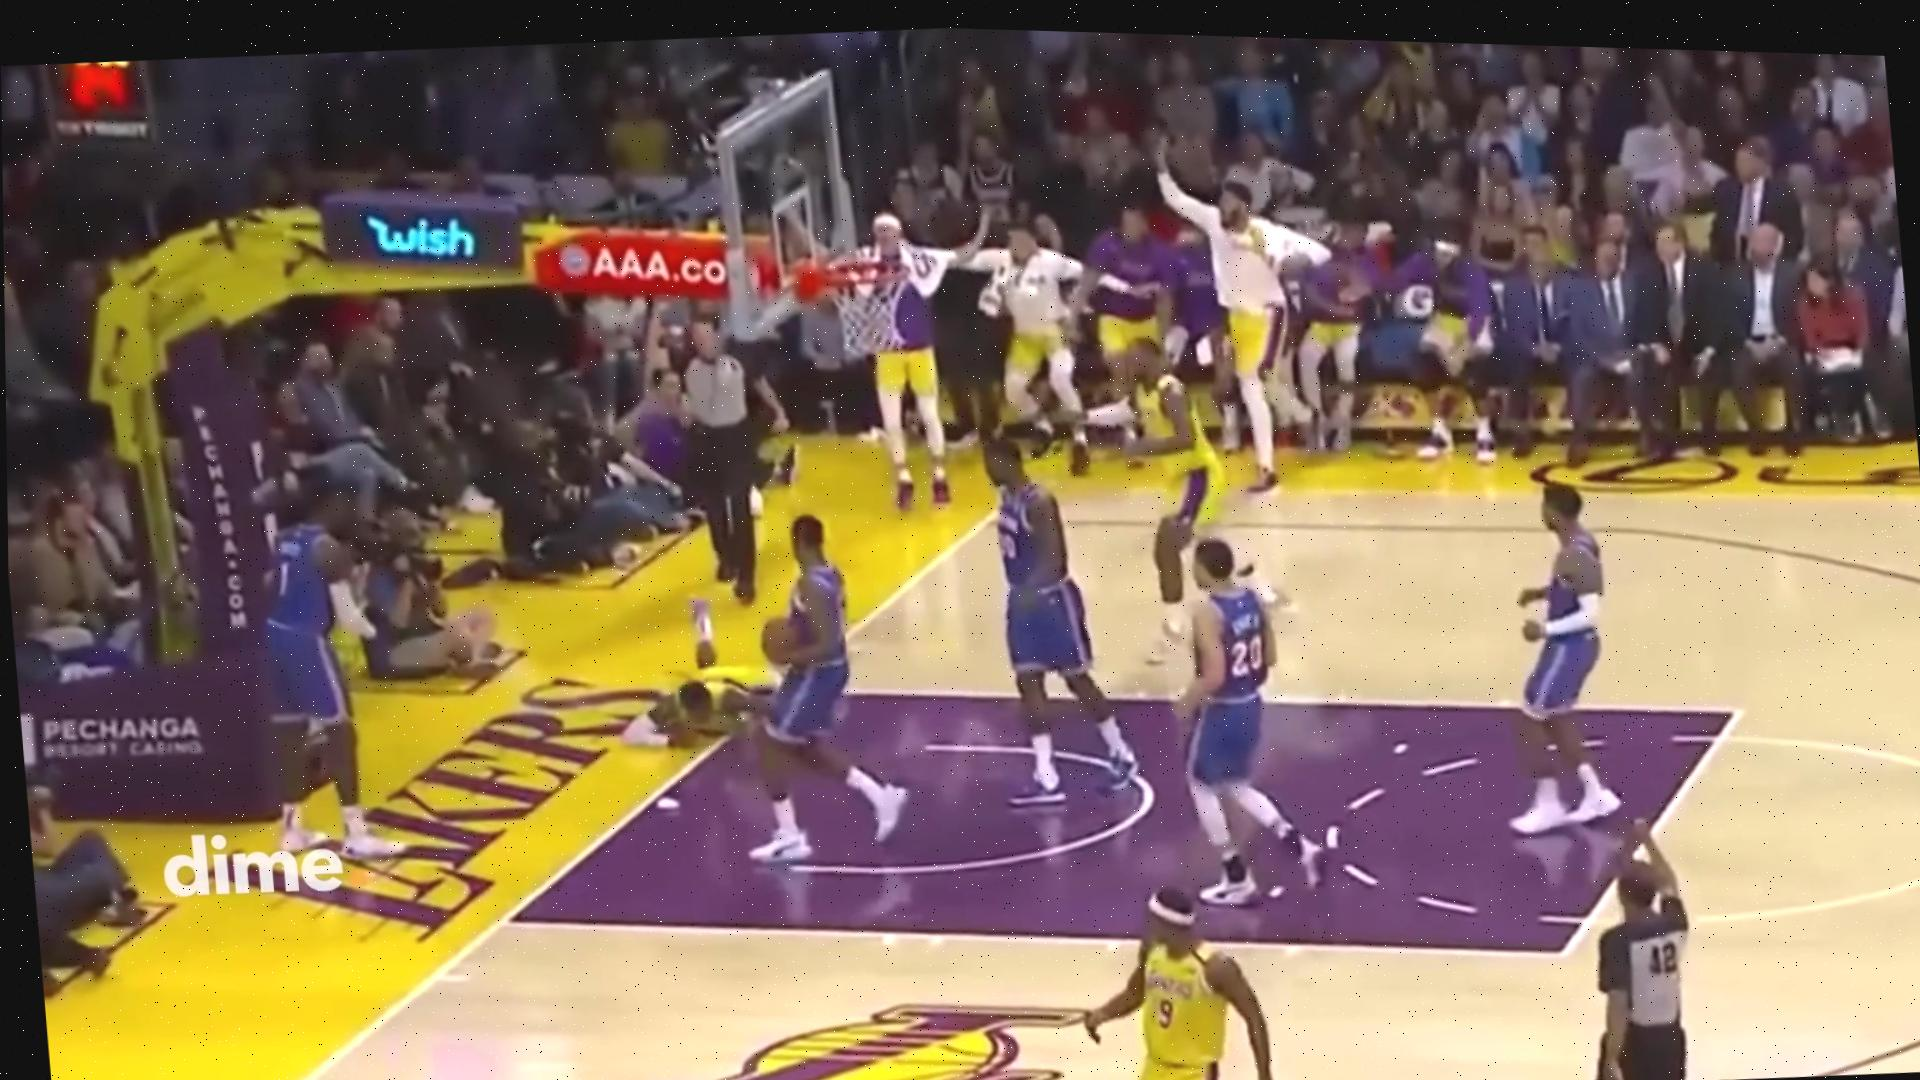no_foul: (1081, 319, 1348, 890)
